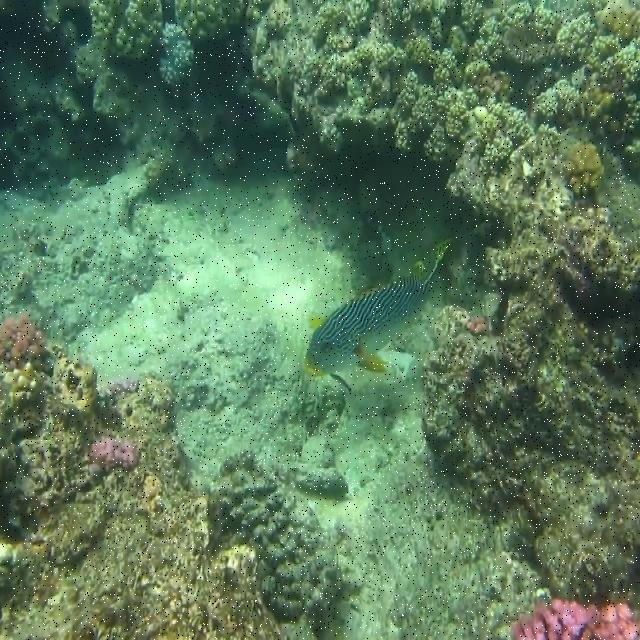fish: (300, 243, 454, 377)
reefs: (5, 0, 639, 602), (0, 312, 287, 639), (213, 452, 340, 617), (508, 599, 639, 639)
